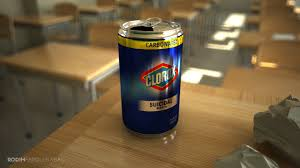can: (114, 13, 190, 143)
